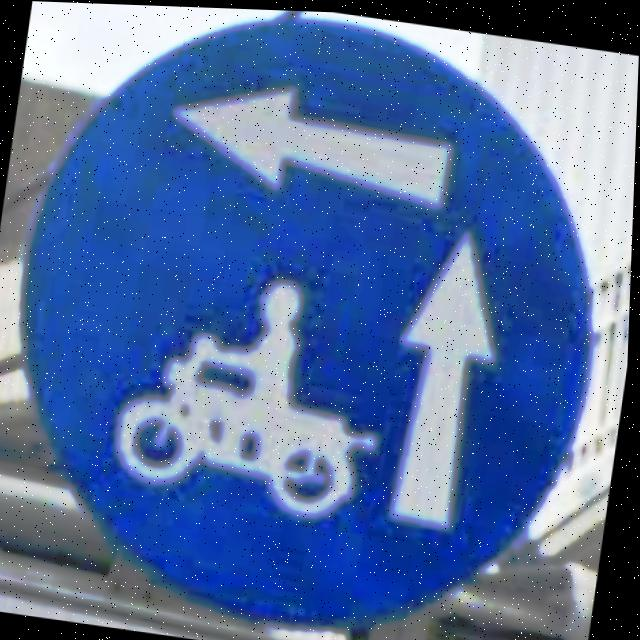twostageturn: (23, 14, 596, 631)
